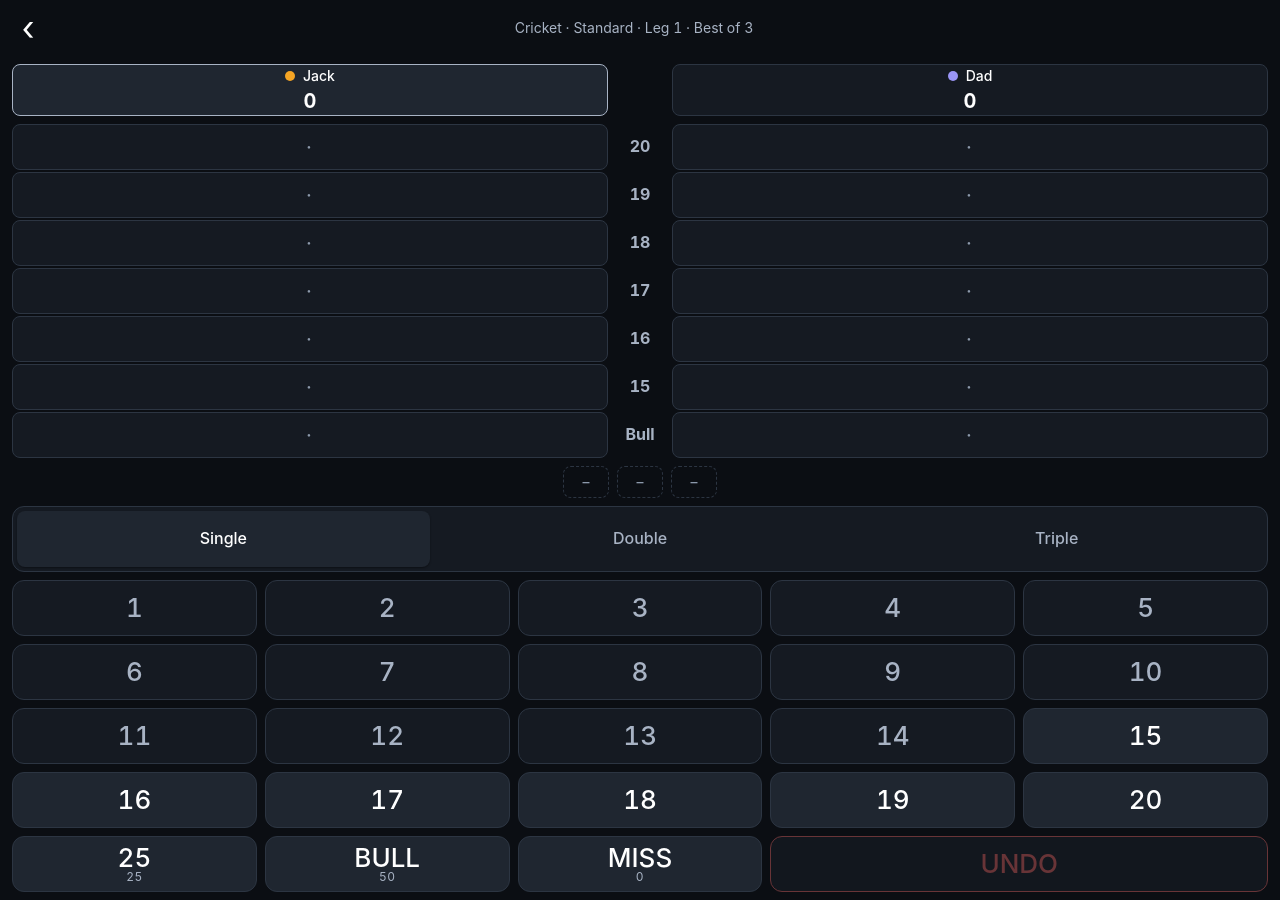
Test: entering a dart › posts three marks for a triple, and resets the latch afterwards
The width and height of the screenshot is (1280, 900).
Step 1. Click the radio button labelled "Triple" → (1057, 539), box [850,511,1263,567]
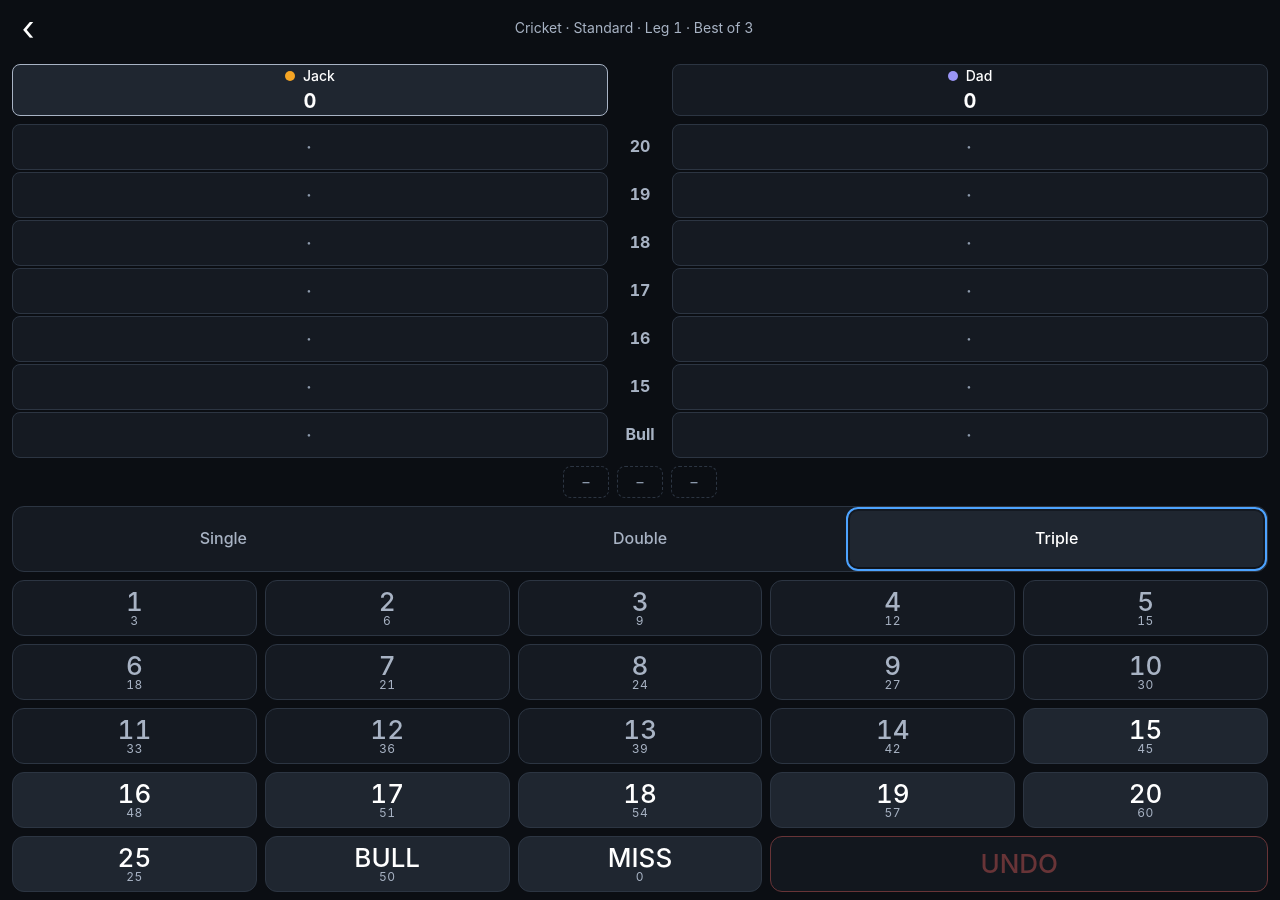
Step 2. Click the button named "20, triple, 60" → (1146, 800), box [1023,772,1268,828]
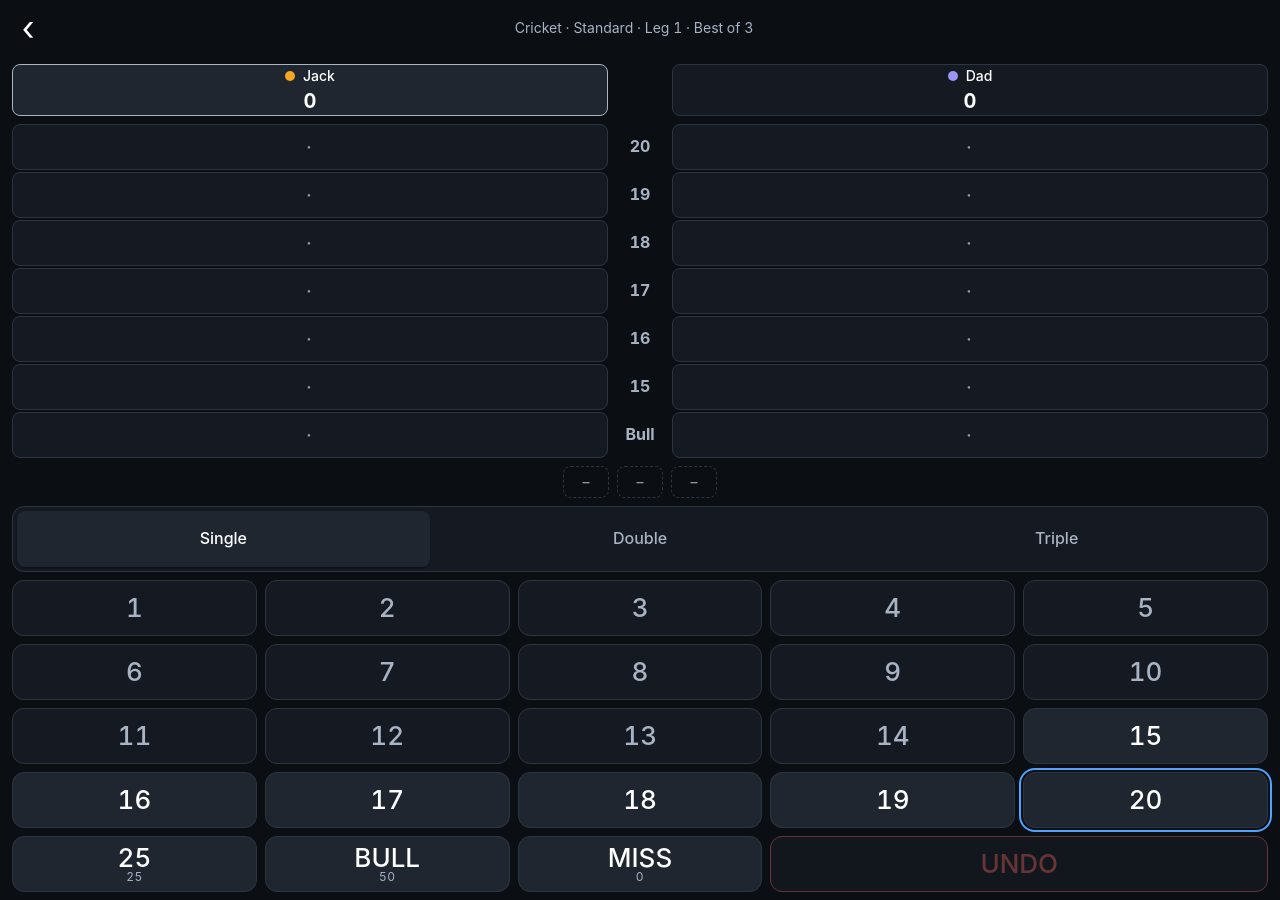
Check: the radio button labelled "Single" is checked, box [17,511,430,567]
